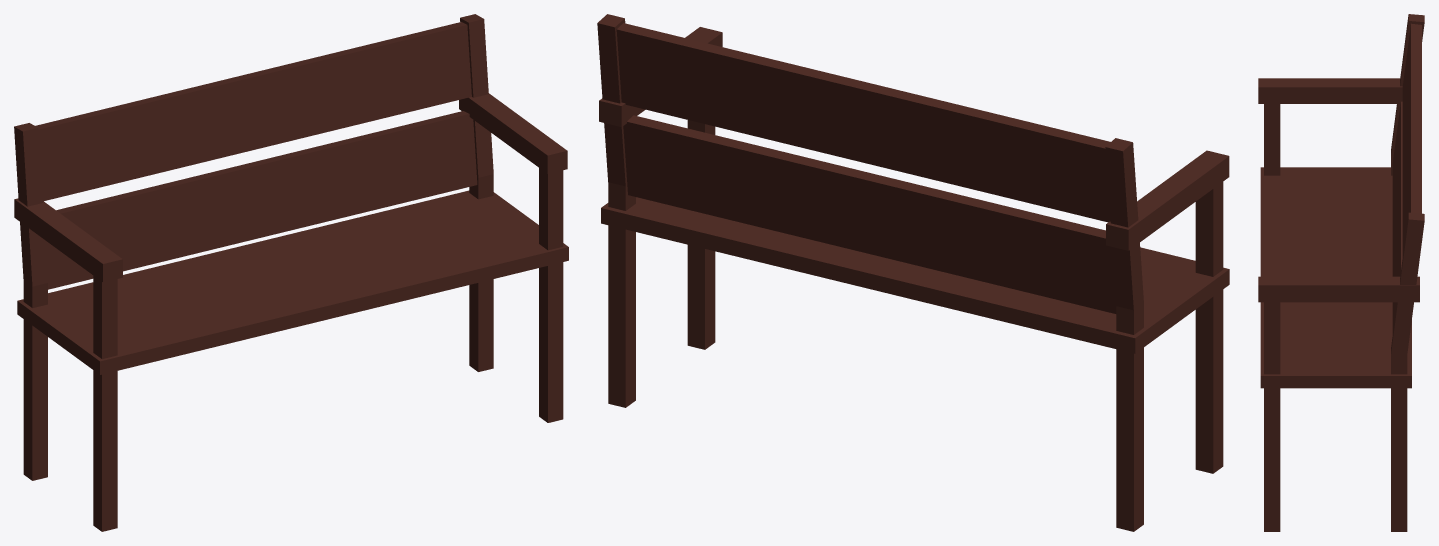
The model's file is bench01.fbx.
3 renders of one model, left to right at view 1: azimuth 30°, elevation 25°; view 2: azimuth 150°, elevation 25°; view 3: azimuth 270°, elevation 25°, orthographic. The views are drawn at different scales.
Visible parts, largest first — view 1: _bench; view 2: _bench; view 3: _bench.
Boxes of the visible parts, left/top/right/bottom form: _bench: left=14, top=14, right=568, bottom=531; _bench: left=597, top=14, right=1229, bottom=531; _bench: left=1258, top=14, right=1424, bottom=531.
Bounding box in the file's own units: 177 × 123 × 59.49.
